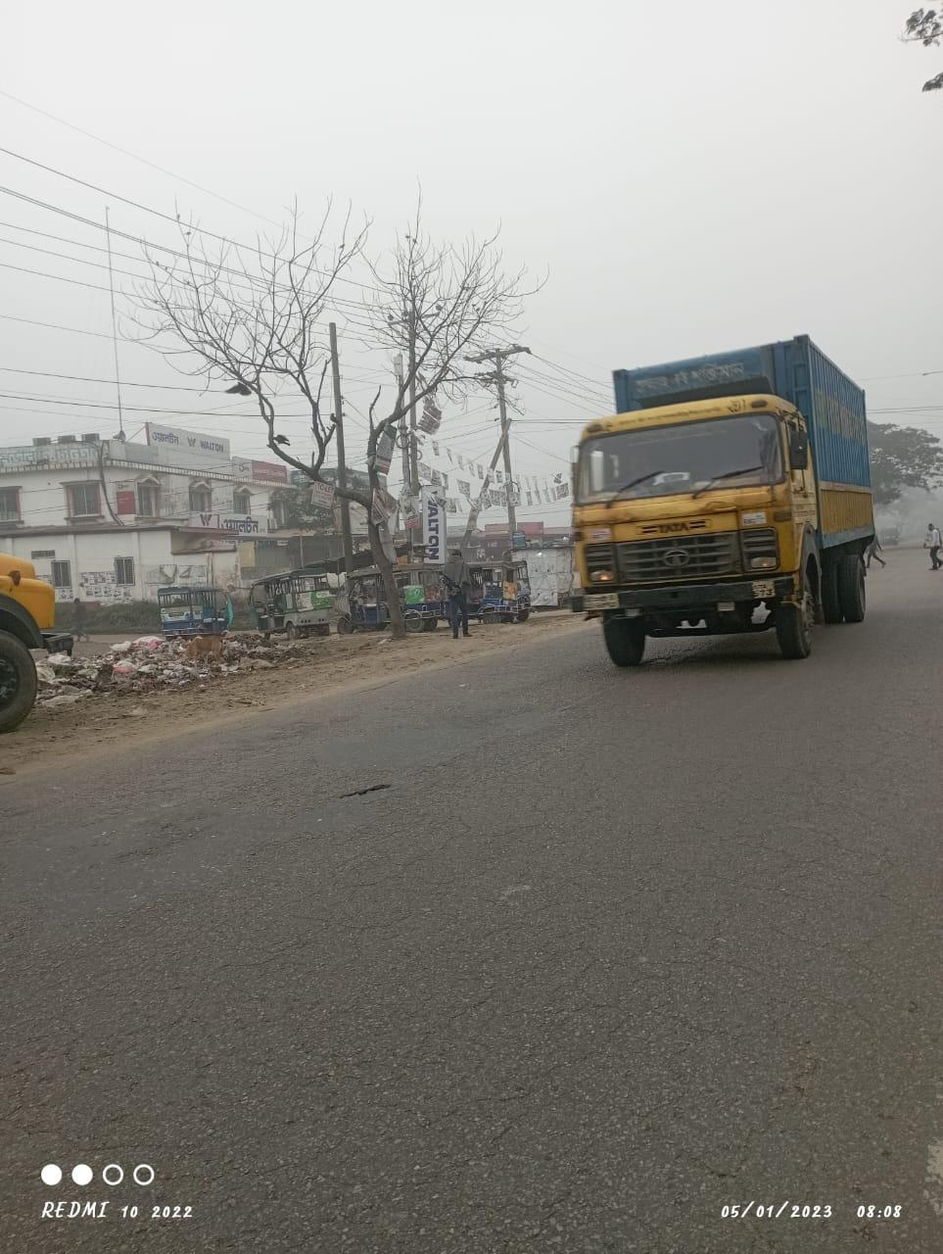Car: (330, 562, 449, 641), (241, 565, 326, 640), (453, 558, 535, 630), (149, 576, 240, 640)
Truck: (544, 325, 889, 663)
